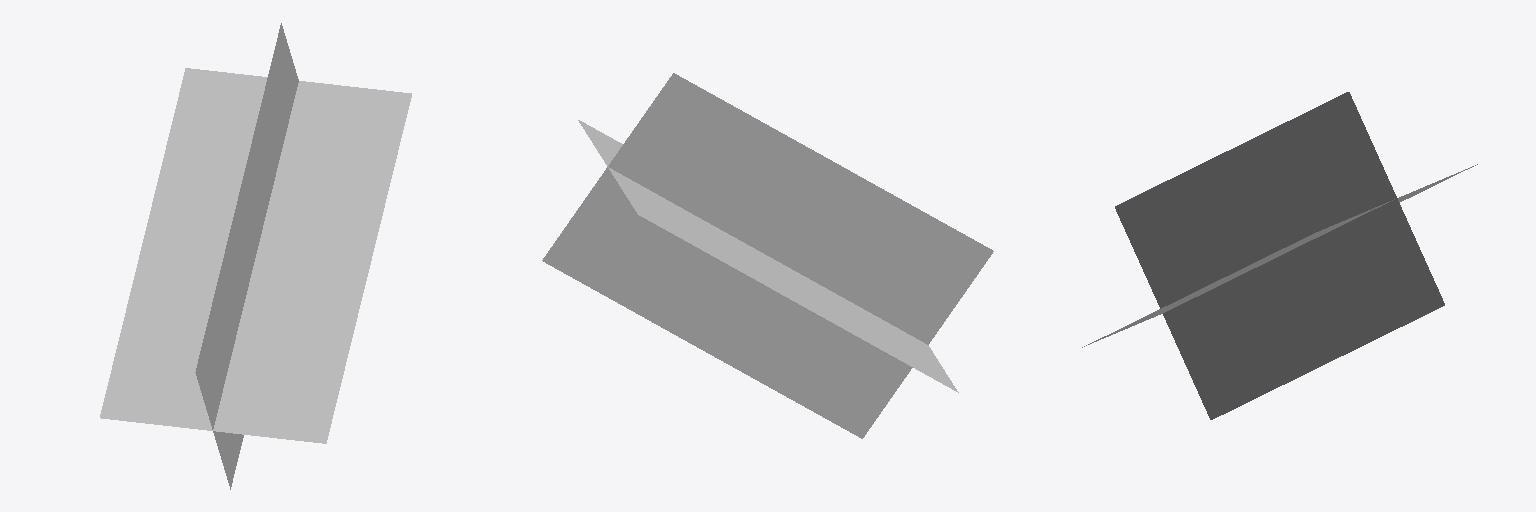
File: mt_string_slope_diagonal.obj
3 renders of one model, left to right at view 1: azimuth 30°, elevation 25°; view 2: azimuth 150°, elevation 25°; view 3: azimuth 270°, elevation 25°, orthographic.
Visible parts, largest first — view 1: cube; view 2: cube; view 3: cube.
Boxes of the visible parts, x1=… form: cube: x1=100, y1=23, x2=411, y2=489; cube: x1=542, y1=73, x2=993, y2=438; cube: x1=1082, y1=92, x2=1477, y2=419.
Bounding box in the file's own units: 1.71 × 1.82 × 1.71.